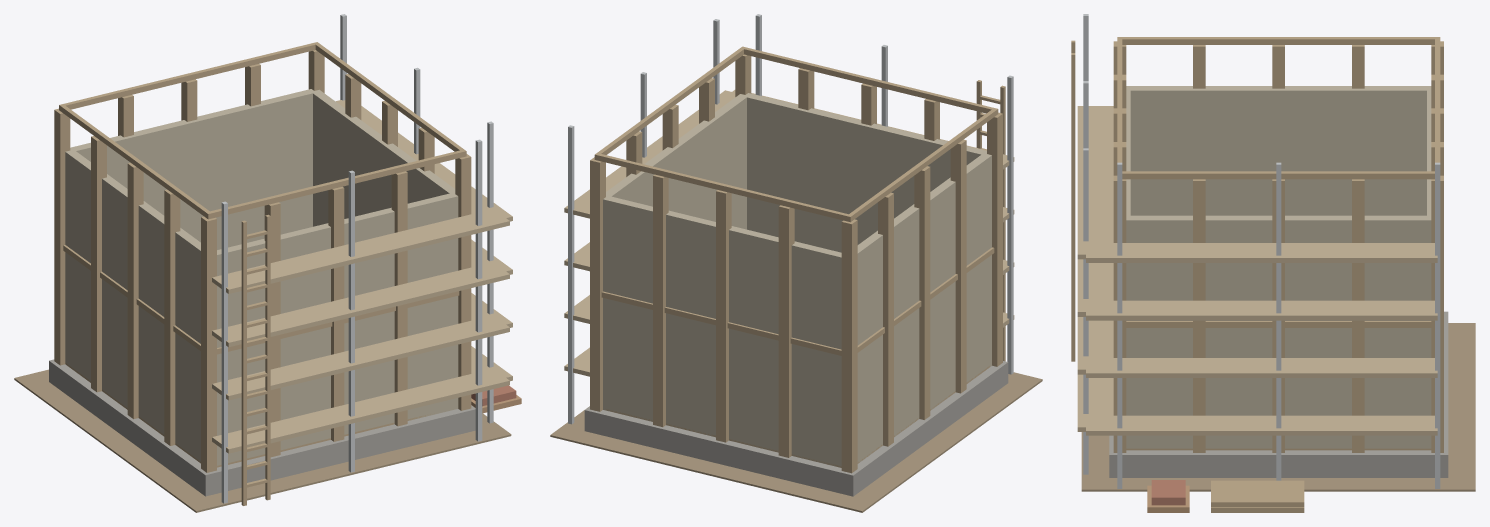
The model's file is feed_mill_site_7.glb.
3 renders of one model, left to right at view 1: azimuth 30°, elevation 25°; view 2: azimuth 150°, elevation 25°; view 3: azimuth 270°, elevation 25°, orthographic. The views are drawn at different scales.
Parts seen in each view (by area): view 1: body; view 2: body; view 3: body.
Boxes of the visible parts, <box> form: body: <box>14,14,521,512</box>; body: <box>550,14,1042,512</box>; body: <box>1071,14,1475,512</box>.
Bounding box in the file's own units: 2.1 × 1.7 × 1.91.
